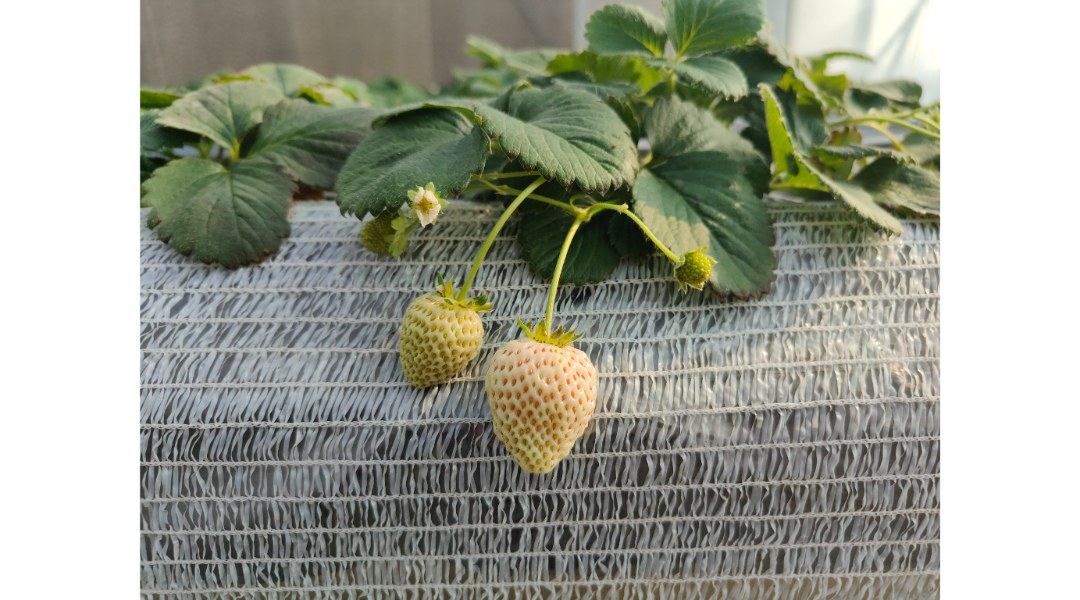berry: (478, 313, 594, 479), (399, 279, 486, 397), (659, 242, 722, 297)
flower: (399, 179, 445, 235)
strain: (466, 172, 543, 307), (534, 219, 584, 339), (608, 196, 678, 261)
